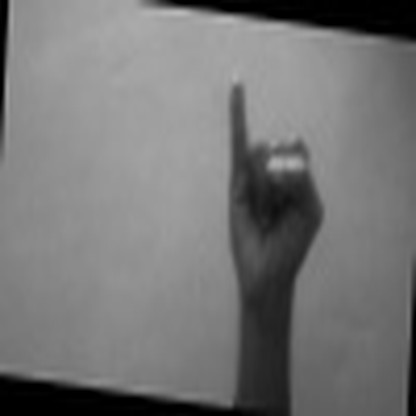i: (215, 69, 335, 324)
